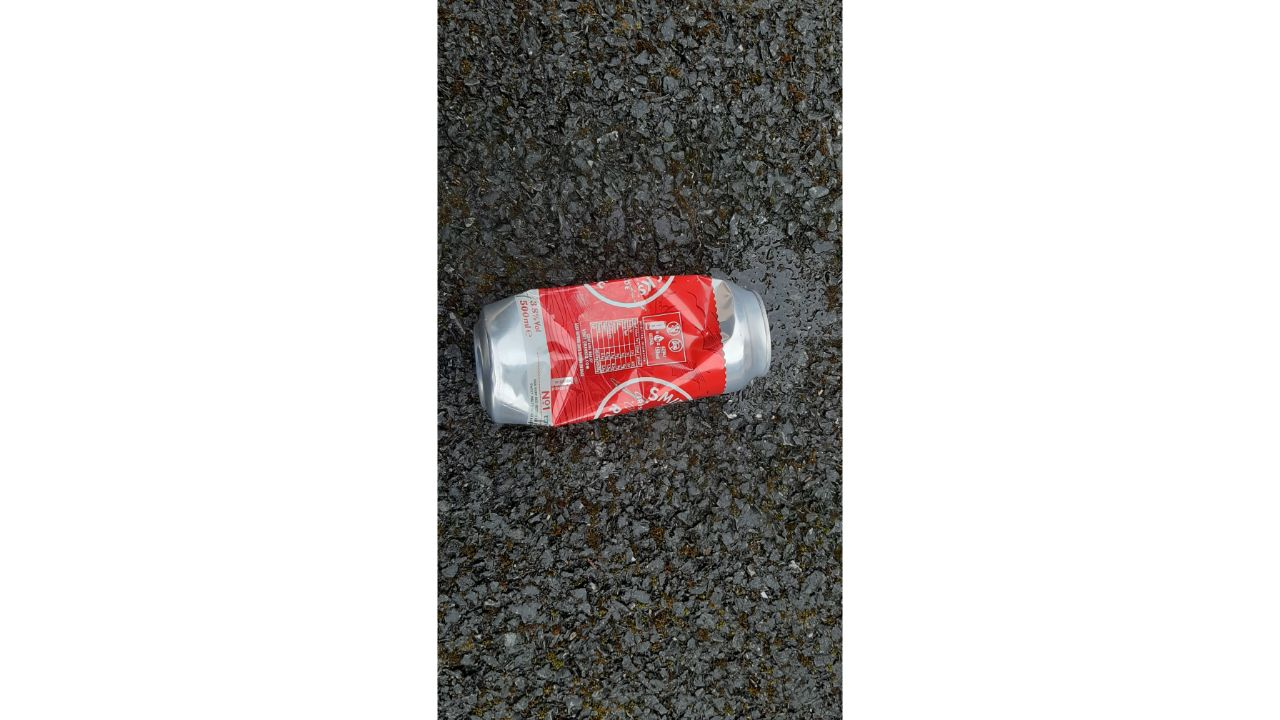Can: (471, 276, 776, 427)
